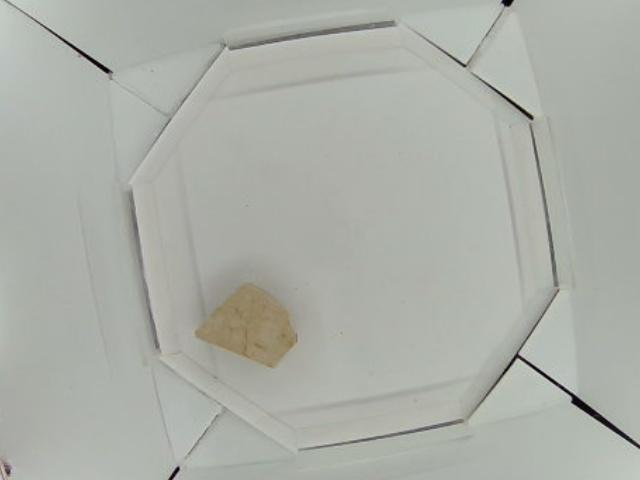China: (193, 284, 297, 366)
